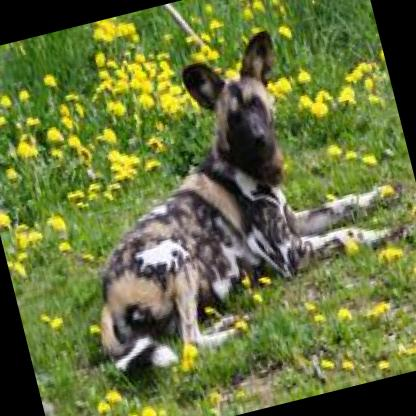African_hunting_dog: (21, 0, 416, 400)
